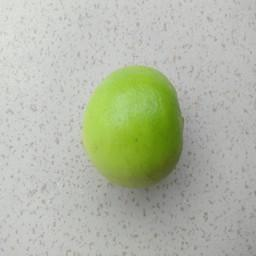Good_lime: (79, 60, 189, 192)
